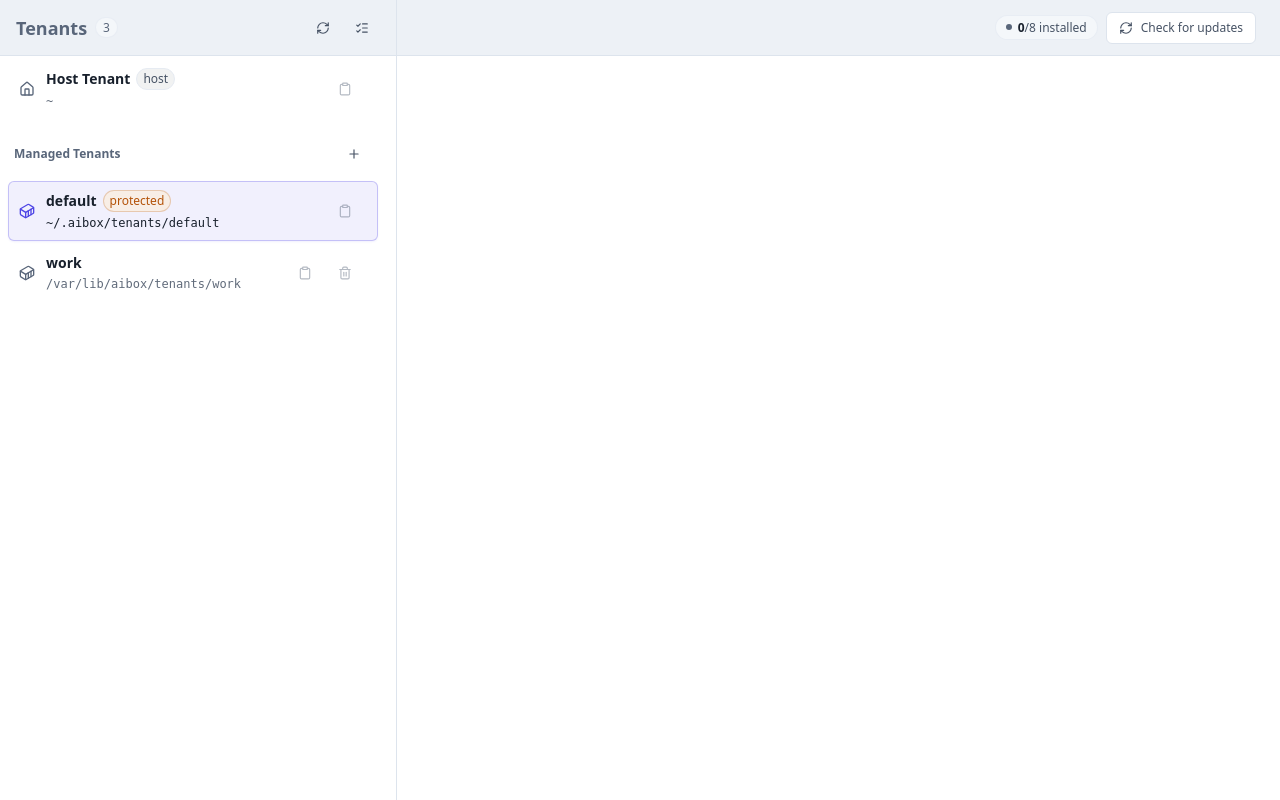
TenantPage › states why a refused Tenant delete failed instead of reloading the reason away
Step 1. Click the button named "Delete Tenant work" → [345, 273], box [327, 255, 363, 291]
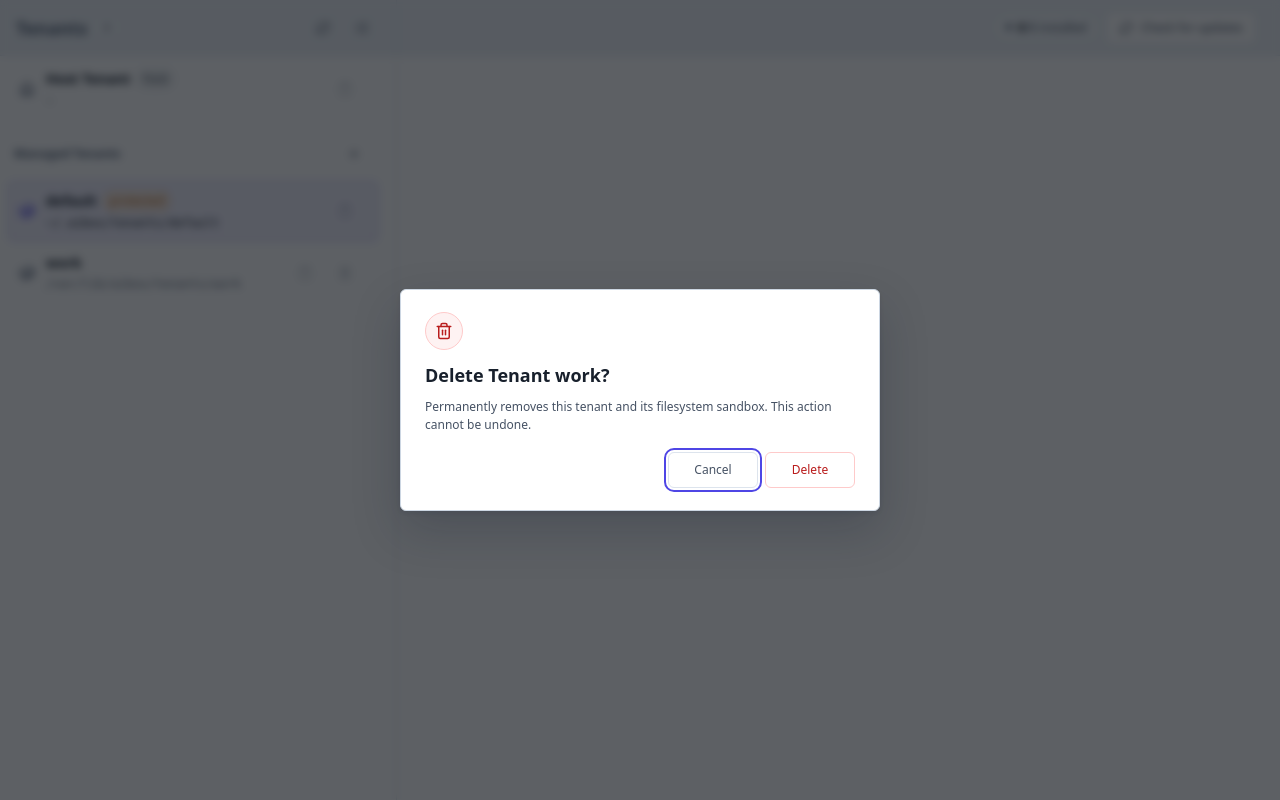
Step 2. Click the button "Delete" → [810, 470], box [765, 452, 855, 488]
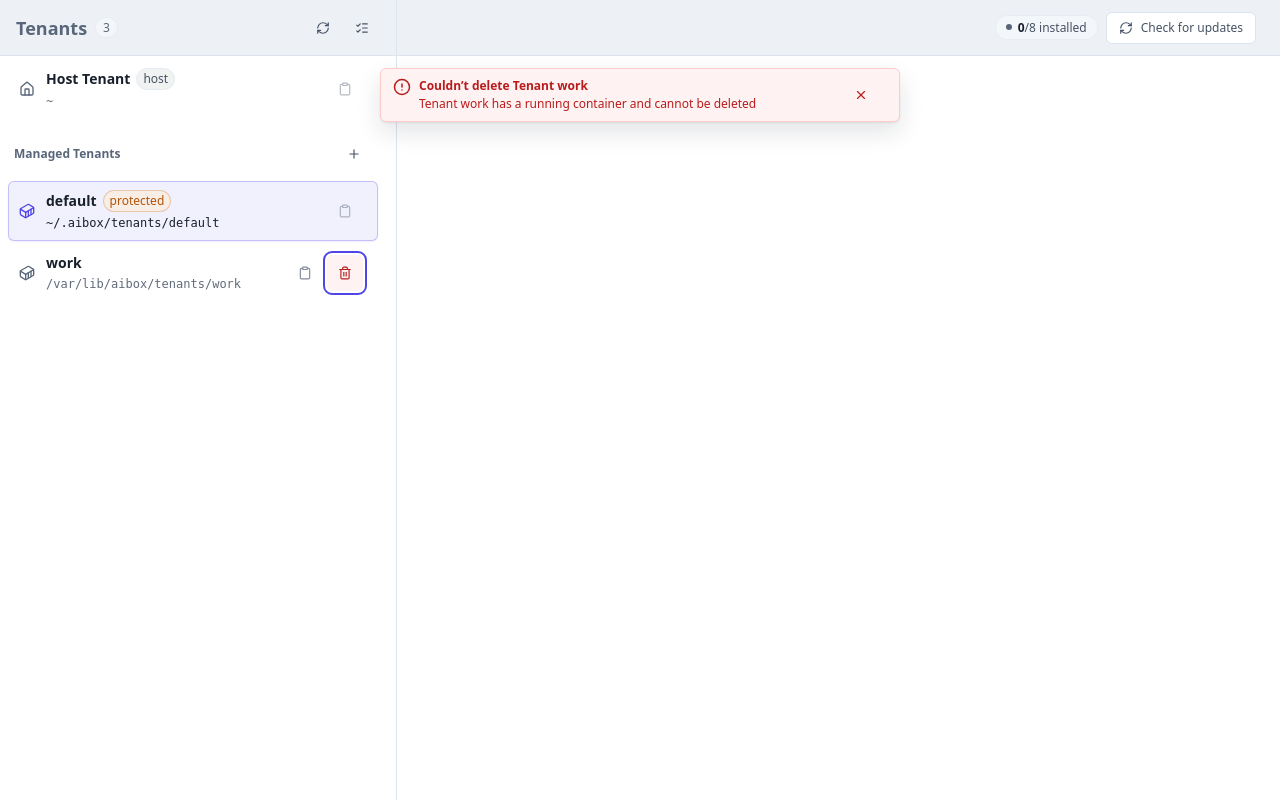
expect the button named "Delete Tenant work" is shown: met, box [327, 255, 363, 291]
expect the message shows "Couldn’t delete Tenant work": met, box [419, 77, 588, 94]
expect the message shows "has a running container": met, box [419, 95, 756, 112]
